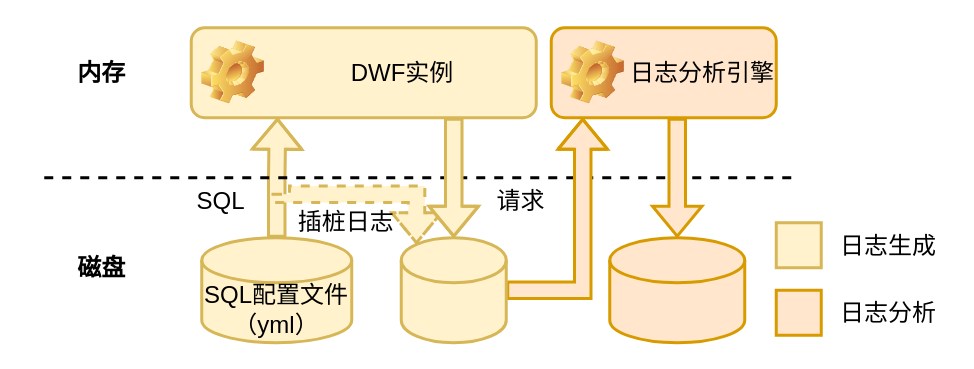
Some shapes in this 974 by 369 pixel diagram are drawn without their labels. Here are the shapes that lost their labels. From the top down, the box of each, then its label:
(399, 236, 507, 344): 日志文件（log）
(608, 236, 746, 344): 测试用例 覆盖的SQL
